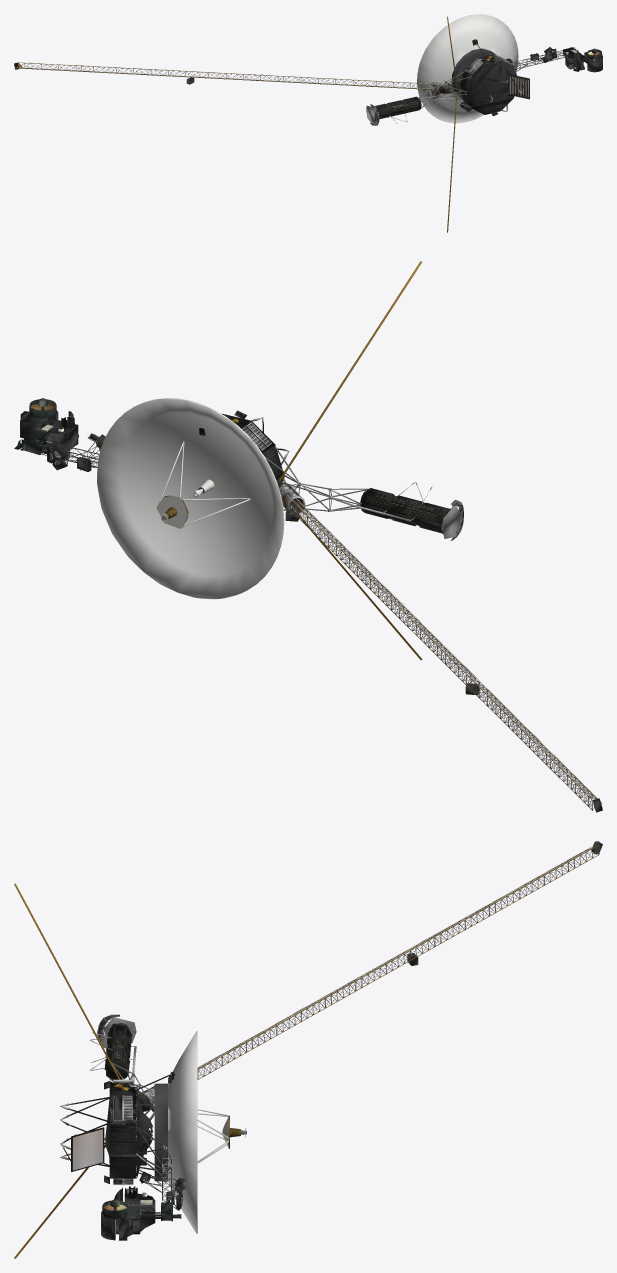
The model's file is voyager_lod2.glb.
The picture shows the model from 3 angles, top to bottom: view 1: azimuth 30°, elevation 25°; view 2: azimuth 150°, elevation 25°; view 3: azimuth 270°, elevation 25°; orthographic projection. The views are drawn at different scales.
Parts seen in each view (by area): view 1: voyager_lod2; view 2: voyager_lod2; view 3: voyager_lod2.
Part boxes in pixels (<box>): voyager_lod2: <box>14,14,602,232</box>; voyager_lod2: <box>14,261,602,812</box>; voyager_lod2: <box>14,841,602,1258</box>.
Bounding box in the file's own units: 16.41 × 7.52 × 10.71.
Materials: 3 (1 with a texture image).
